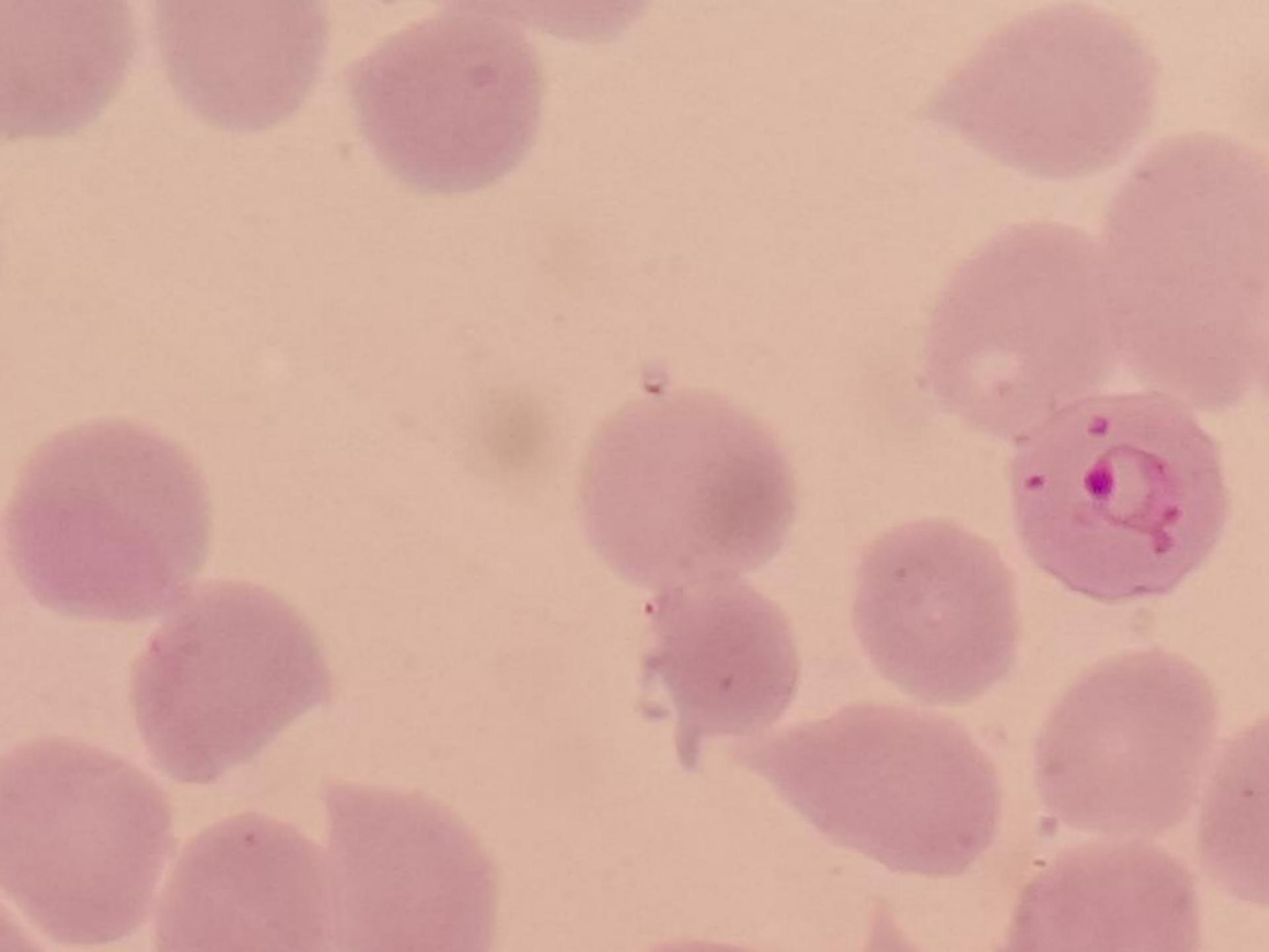Infected: (1011, 395, 1224, 603)
Uninfected: (724, 697, 998, 876), (1096, 134, 1269, 415), (915, 2, 1158, 178), (925, 215, 1114, 439), (582, 388, 800, 578), (127, 585, 330, 784), (339, 9, 546, 196), (13, 417, 204, 612), (0, 744, 169, 952), (1039, 649, 1216, 839), (639, 580, 802, 772), (853, 514, 1024, 695), (326, 778, 500, 952), (164, 816, 349, 952), (152, 0, 329, 131), (1006, 838, 1202, 952)
